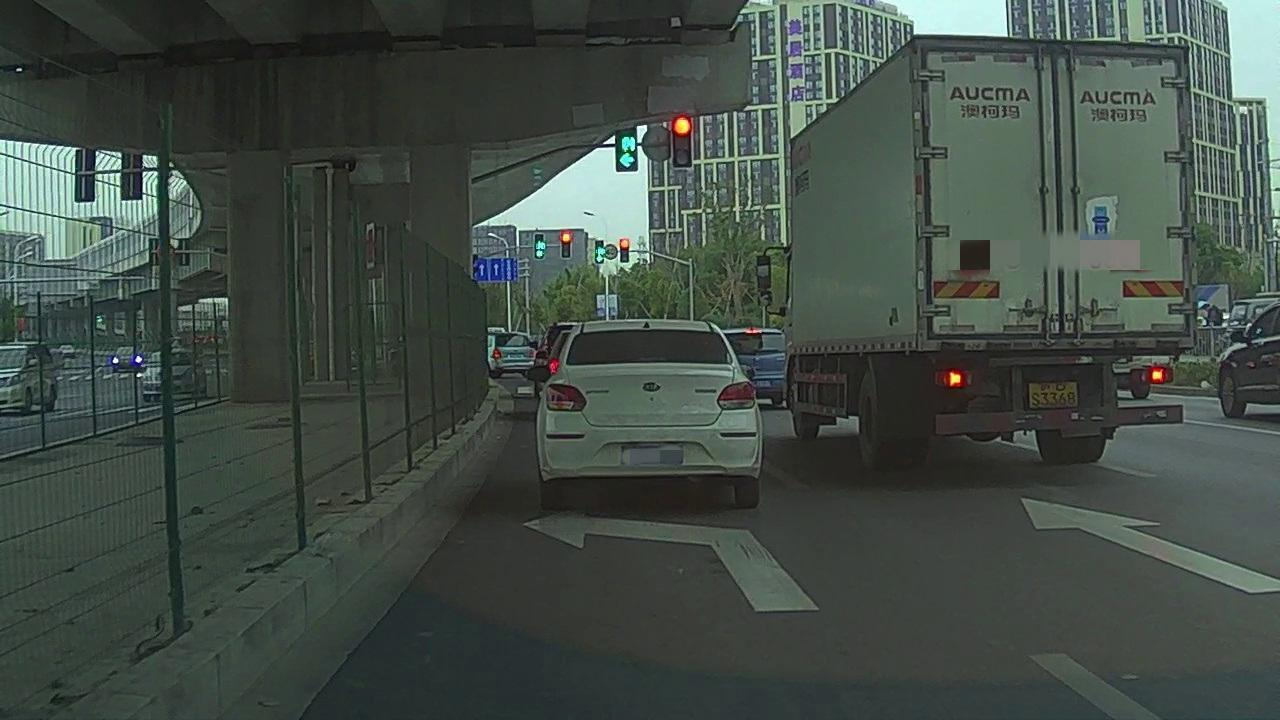traffic_light: (671, 119, 688, 168), (617, 130, 635, 172), (560, 233, 570, 259), (535, 231, 544, 258), (596, 239, 605, 263), (622, 239, 630, 263)
